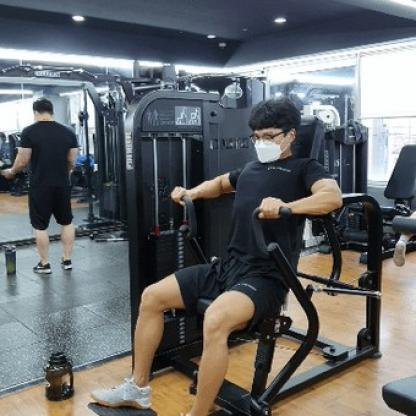Chest Press machine: (82, 80, 392, 416)
